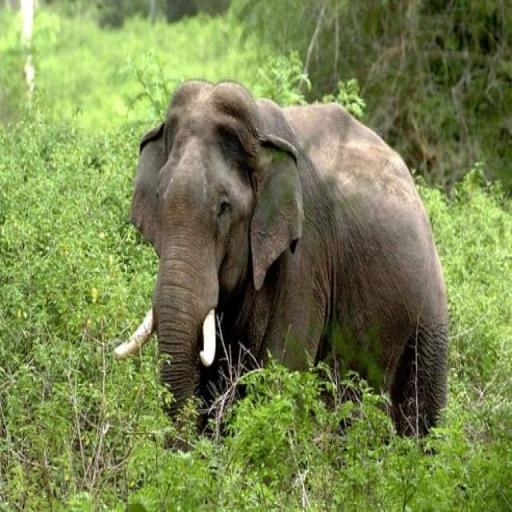Elephant: (114, 76, 449, 456)
